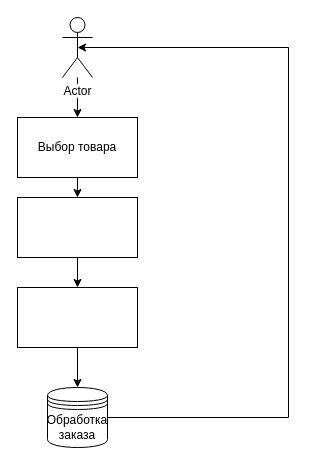
This 314x465 diagram has some shape labels left out. Here are the shapes that lost their labels. From the top down, the centre of each, then its label:
At point (77, 227): "Добавление товара в корзину".
At point (77, 317): "Оформление заказа".
